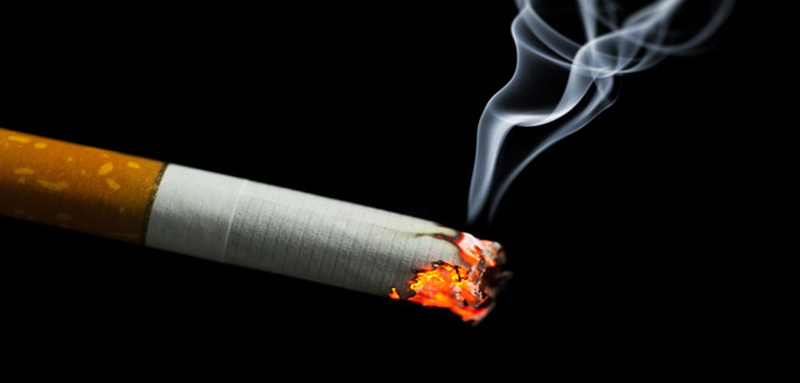sigaretta: (1, 136, 535, 360)
